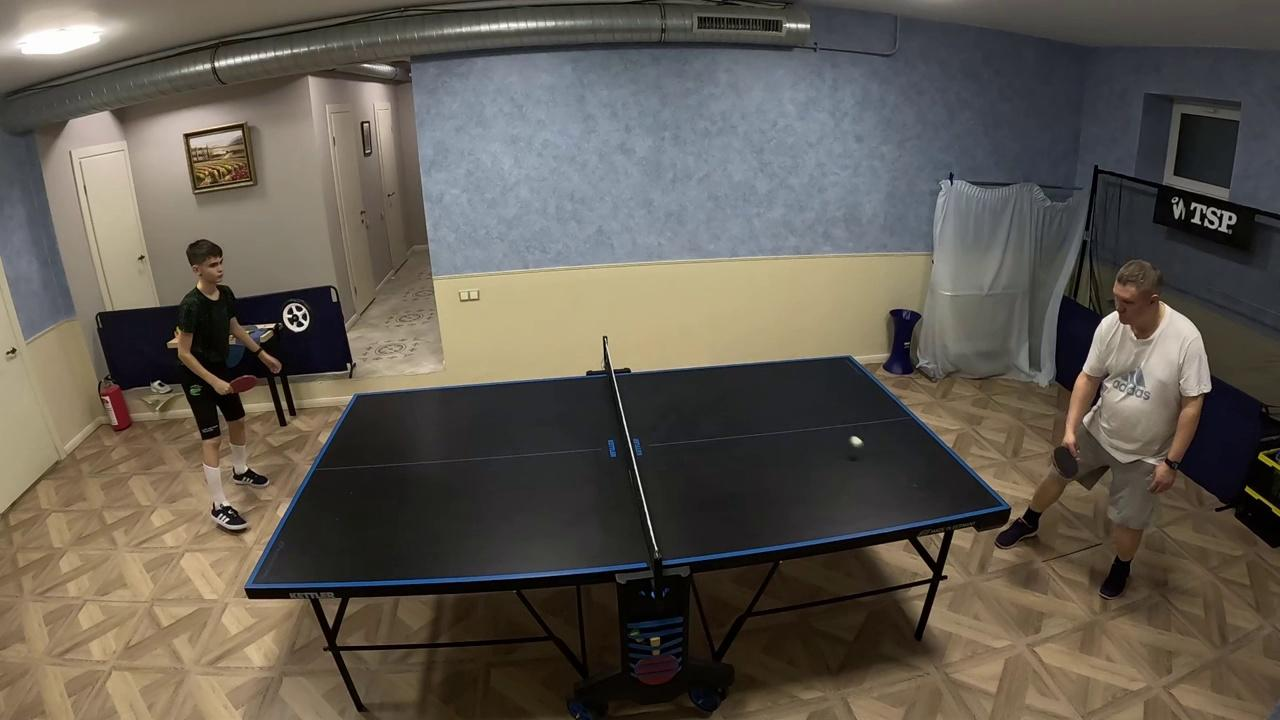Ball: (847, 434, 866, 449)
Net: (602, 336, 662, 576)
Player1: (174, 240, 278, 532)
Player2: (986, 262, 1210, 598)
Table: (250, 372, 648, 588), (616, 356, 1001, 571)
